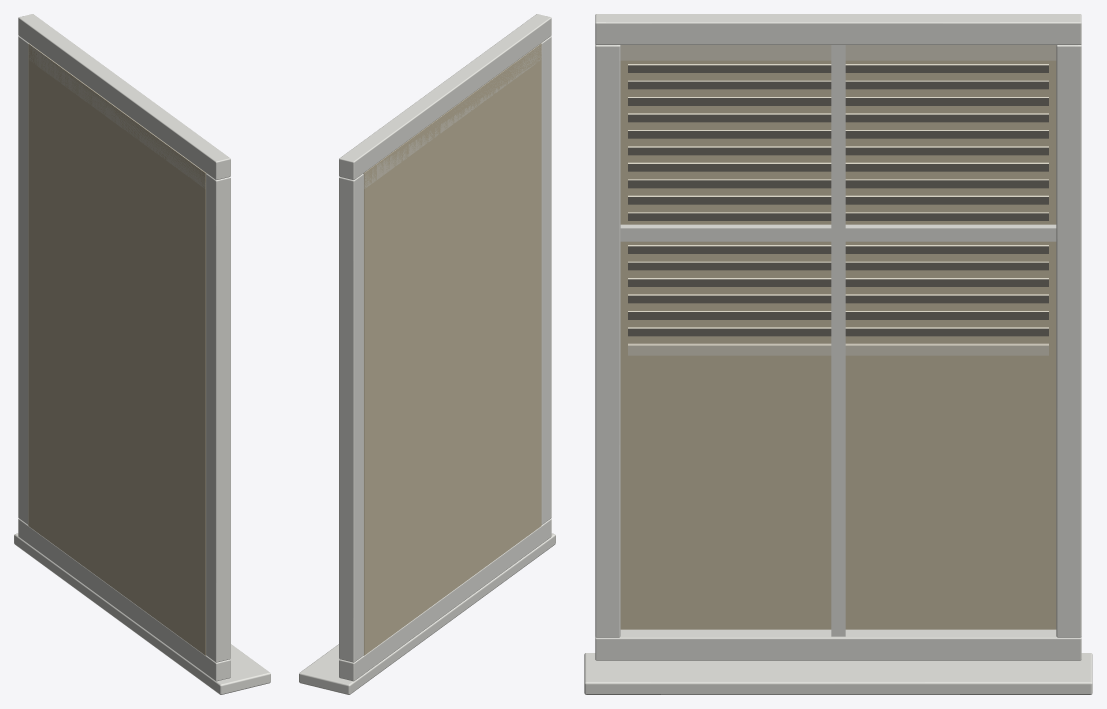
Rendered from window_188_lit.glb.
The picture shows the model from 3 angles, left to right: view 1: azimuth 30°, elevation 25°; view 2: azimuth 150°, elevation 25°; view 3: azimuth 270°, elevation 25°; orthographic projection. The views are drawn at different scales.
Visible parts, largest first — view 1: laibung_hinten, rahmen.003, rahmen, rahmen.002, rahmen.001, bank, jal_kasten; view 2: laibung_hinten, rahmen.002, rahmen, rahmen.003, rahmen.001, bank, jal_kasten; view 3: laibung_hinten, bank, rahmen.002, rahmen.003, rahmen, rahmen.001, sprosse, kaempfer, jal_kasten, jal_leiste, lamelle4, lamelle6 (+14 smaller).
Boxes of the visible parts, left/top/right/bottom form: laibung_hinten: left=28, top=43, right=206, bottom=655; rahmen.003: left=206, top=173, right=230, bottom=662; rahmen: left=18, top=14, right=230, bottom=179; rahmen.002: left=18, top=36, right=28, bottom=524; rahmen.001: left=18, top=518, right=230, bottom=681; bank: left=14, top=533, right=270, bottom=694; jal_kasten: left=28, top=44, right=205, bottom=188; laibung_hinten: left=363, top=43, right=541, bottom=655; rahmen.002: left=339, top=173, right=363, bottom=662; rahmen: left=339, top=14, right=551, bottom=179; rahmen.003: left=541, top=36, right=551, bottom=524; rahmen.001: left=339, top=518, right=551, bottom=681; bank: left=299, top=533, right=555, bottom=694; jal_kasten: left=364, top=43, right=541, bottom=188; laibung_hinten: left=620, top=60, right=1056, bottom=629; bank: left=584, top=653, right=1092, bottom=694; rahmen.002: left=1056, top=44, right=1081, bottom=637; rahmen.003: left=595, top=44, right=620, bottom=637; rahmen: left=595, top=14, right=1081, bottom=44; rahmen.001: left=595, top=629, right=1081, bottom=660; sprosse: left=831, top=45, right=845, bottom=636; kaempfer: left=620, top=224, right=1056, bottom=241; jal_kasten: left=620, top=45, right=1056, bottom=60; jal_leiste: left=628, top=343, right=1048, bottom=355; lamelle4: left=628, top=113, right=1048, bottom=122; lamelle6: left=628, top=146, right=1048, bottom=155.
Bounding box in the file's own units: 0.2 × 1.98 × 1.4.
